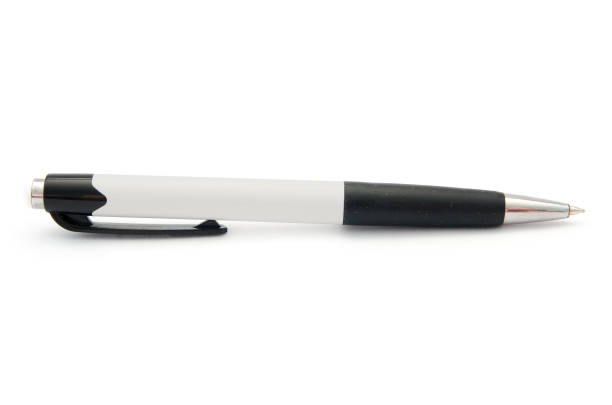pen: (24, 167, 592, 245)
